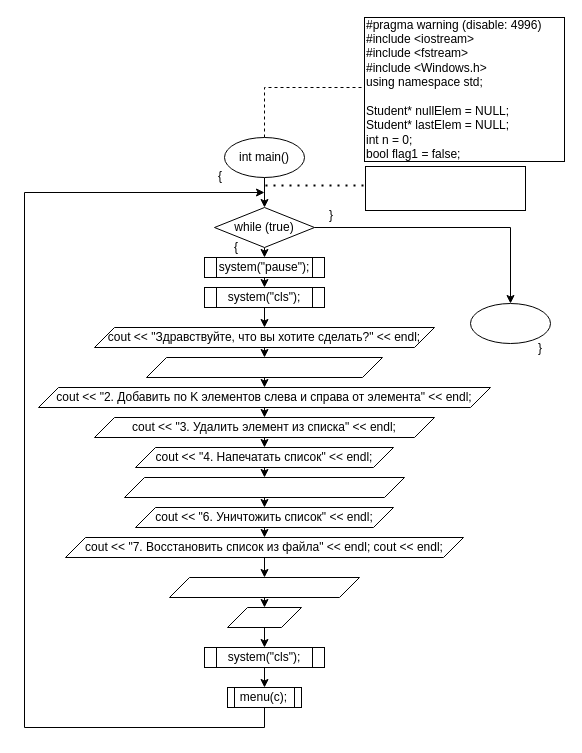
Image size: 582x753. Some labels were removed from this diagram. The shapes that lost their labels are listed below. From the top down, each one's centre as x and y in pixels, then its label:
the point at 445,188: SetConsoleCP(1251); SetConsoleOutputCP(1251); int c;
the point at 510,323: return 0;
the point at 264,367: cout << "1. Создать список" << endl;
the point at 264,487: cout << "5. Записать список в файл" << endl;
the point at 264,587: cout << "Введите c" << endl;
the point at 264,617: cin >> c;
